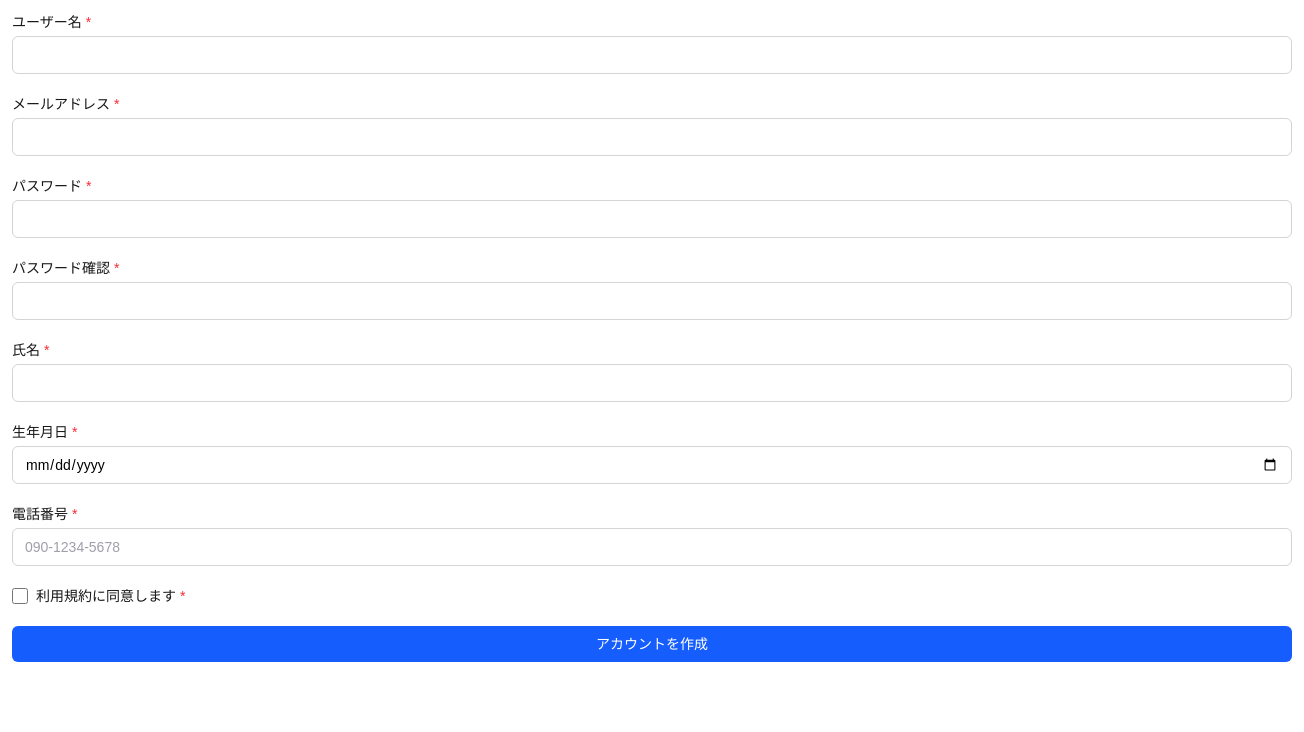
RegisterForm › パスワードとパスワード確認が一致しない場合エラーが表示される
Type "Password1" into the password field labelled "パスワード*".
click(652, 219); type("Password1")  # box [12, 200, 1292, 238]
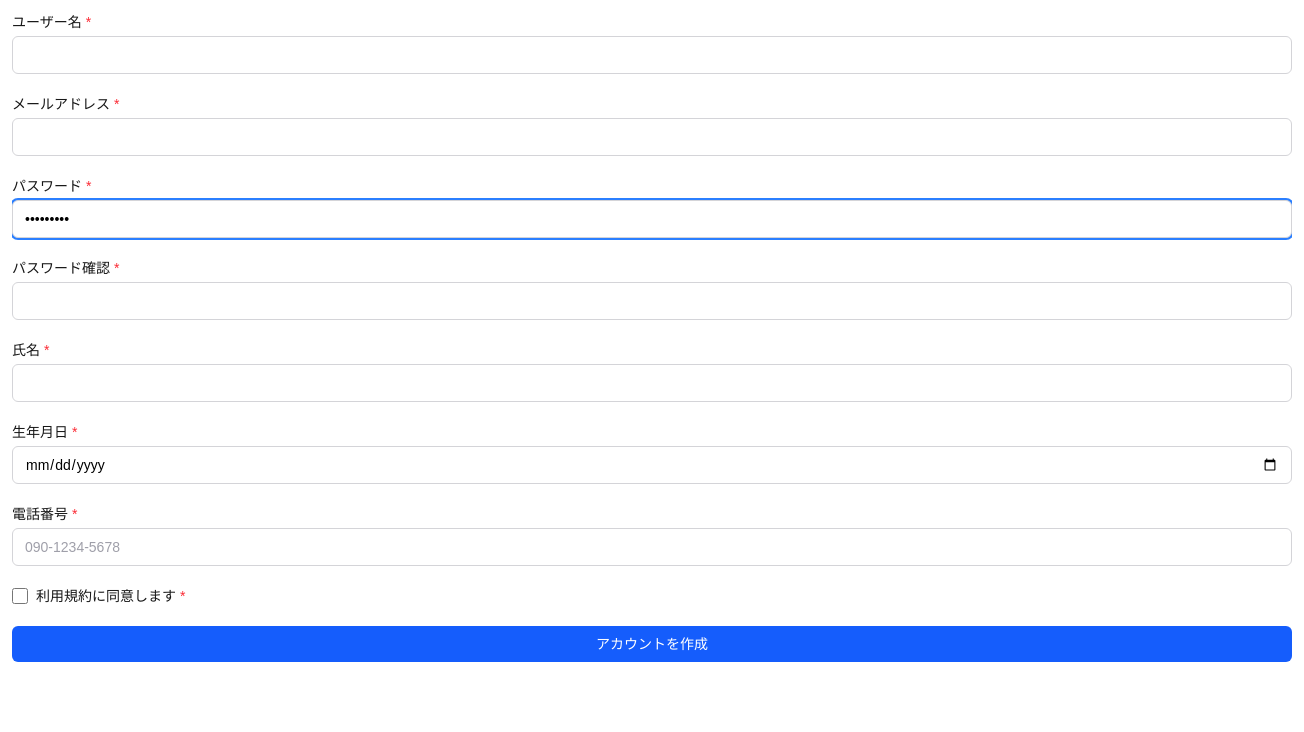
Type "Password2" into the password field labelled "パスワード確認*".
click(652, 301); type("Password2")  # box [12, 282, 1292, 320]
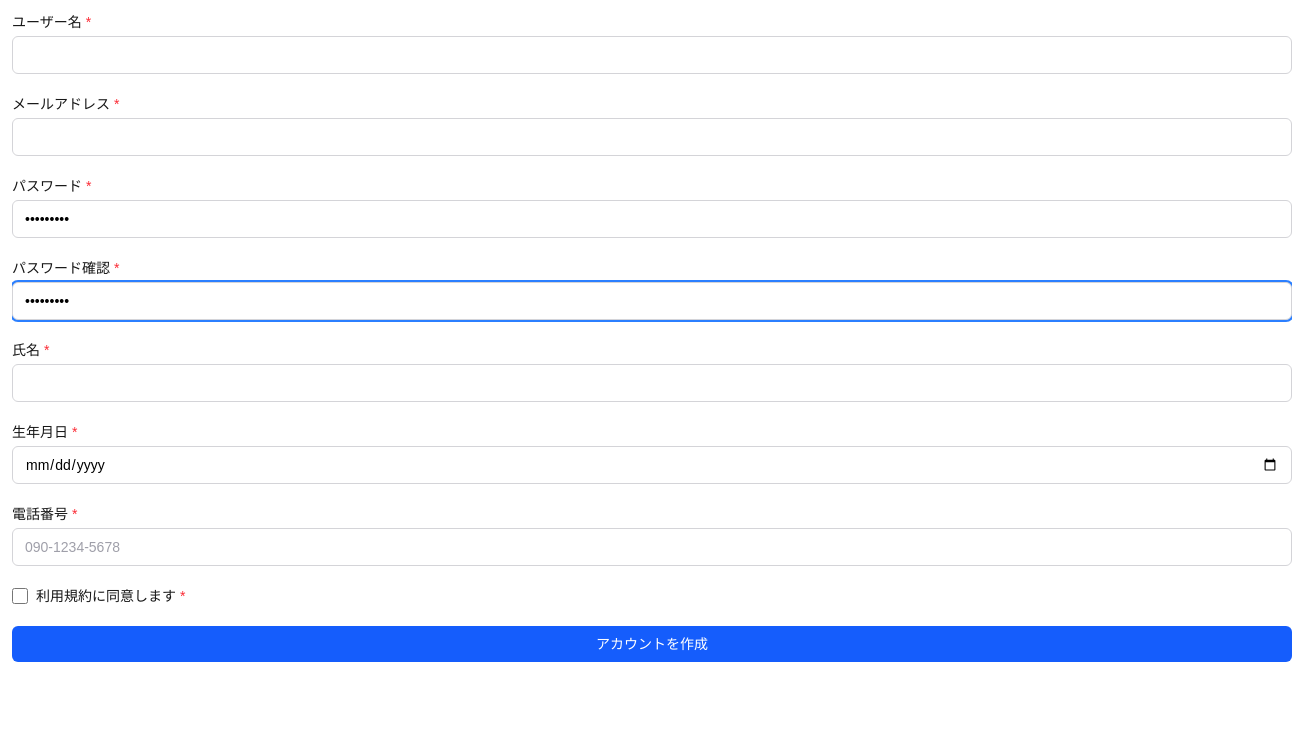
Click the button "アカウントを作成".
click(652, 644)  # box [12, 626, 1292, 662]
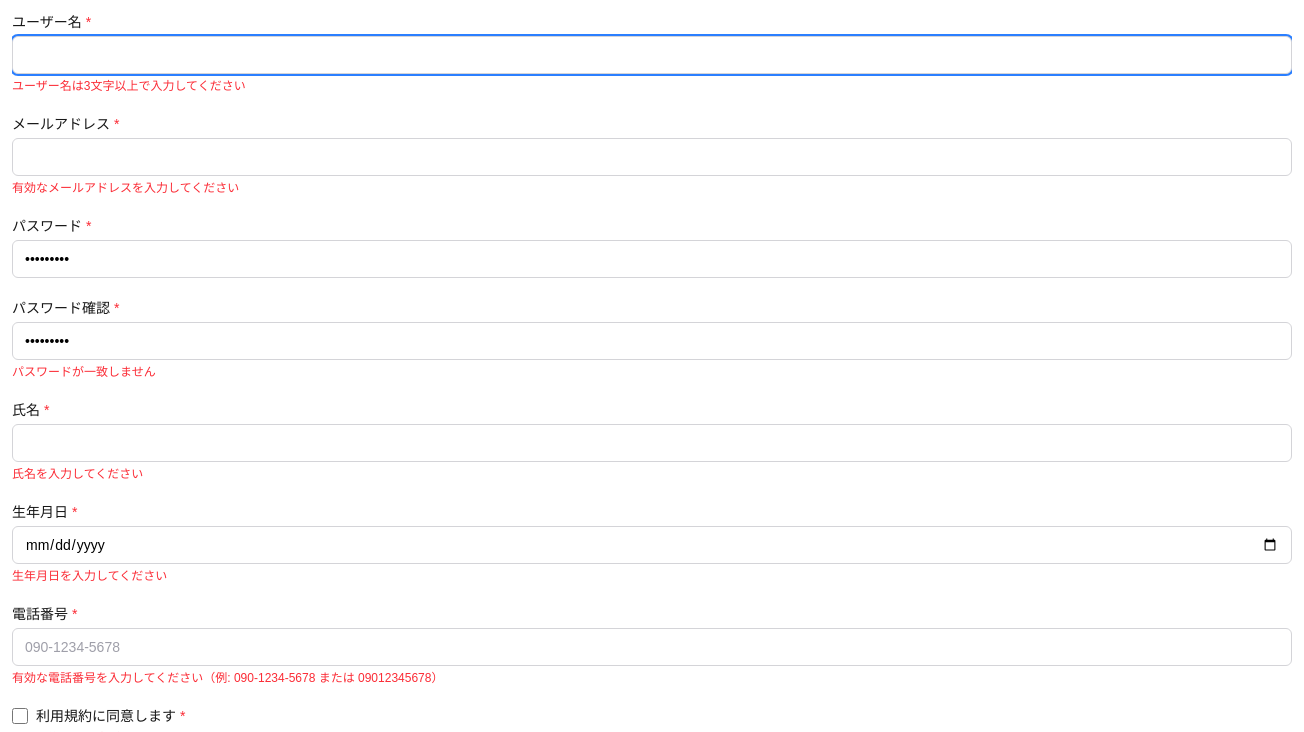
expect the text "パスワードが一致しません" is shown: met, box [12, 365, 156, 379]
